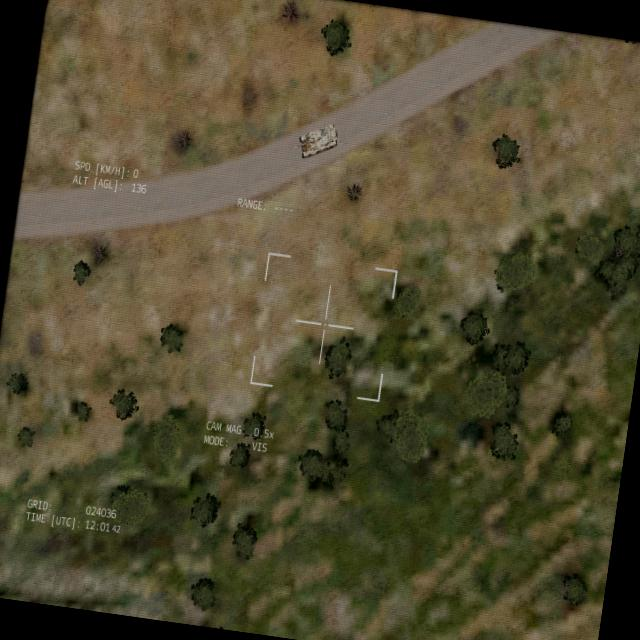tank: (286, 117, 340, 164)
